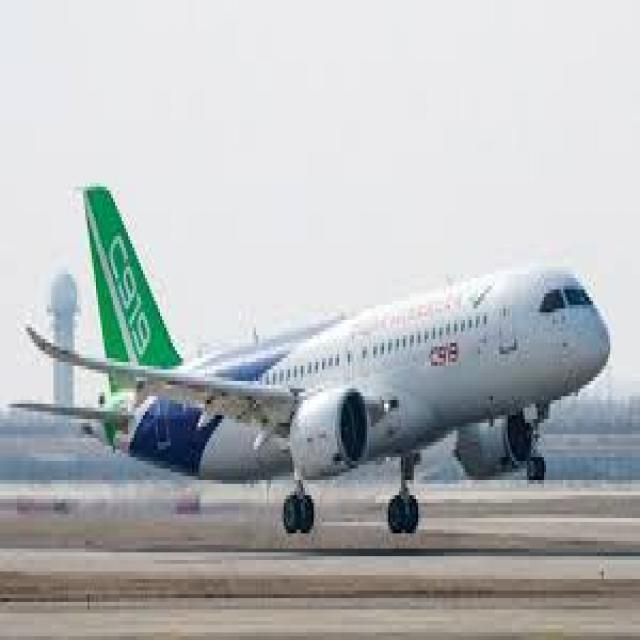airplane: (109, 222, 576, 469)
